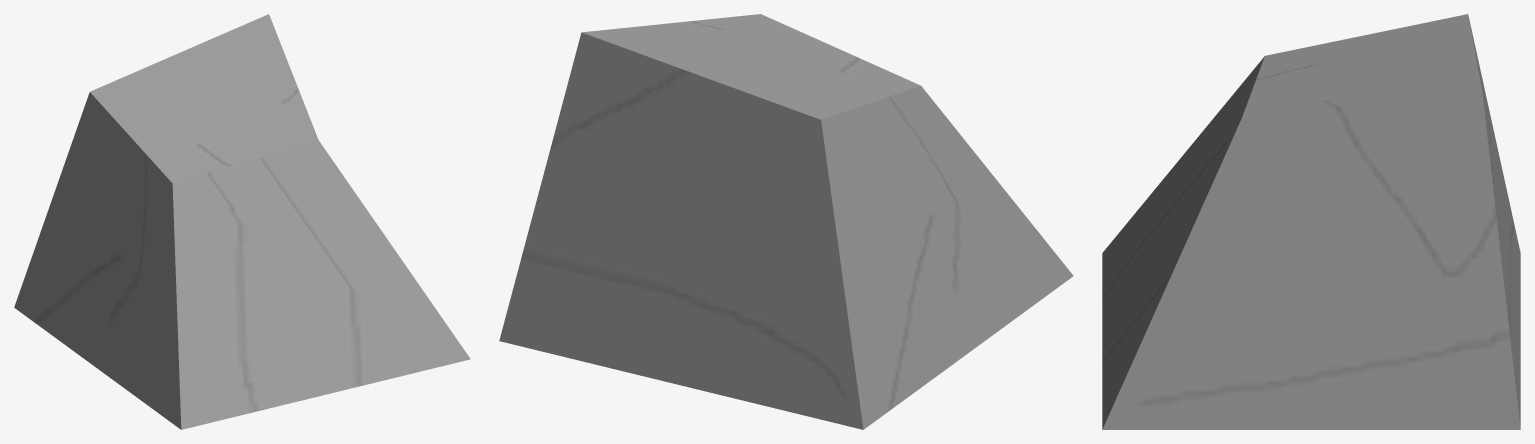
Rendered from cartoon_rock.glb.
3 renders of one model, left to right at view 1: azimuth 30°, elevation 25°; view 2: azimuth 150°, elevation 25°; view 3: azimuth 270°, elevation 25°, orthographic. The views are drawn at different scales.
Parts seen in each view (by area): view 1: Cube_0; view 2: Cube_0; view 3: Cube_0.
Part boxes in pixels (x1=…): Cube_0: x1=14, y1=14, x2=470, y2=429; Cube_0: x1=499, y1=14, x2=1073, y2=429; Cube_0: x1=1102, y1=14, x2=1520, y2=429.
Bounding box in the file's own units: 2 × 1.63 × 2.
Materials: 1 (1 with a texture image).
